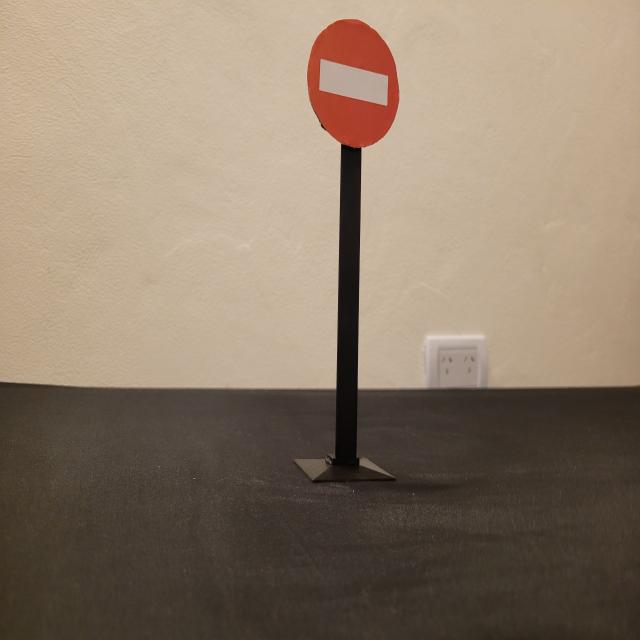no_entry: (305, 18, 400, 150)
